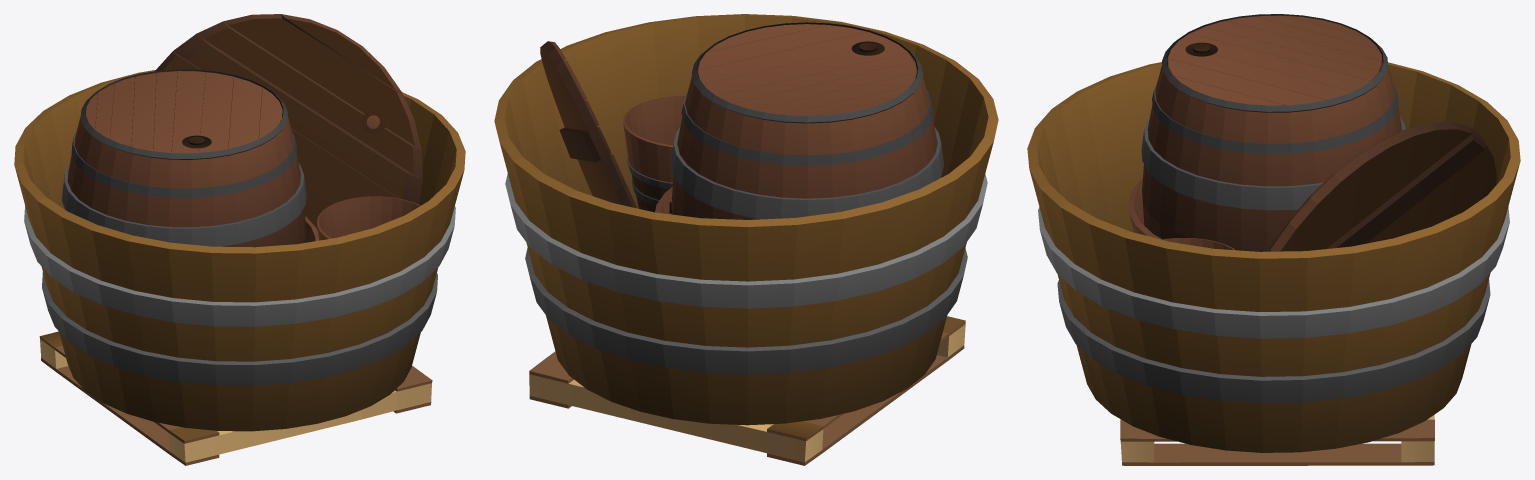
Rendered from Small Pallet of Barrels.fbx.
The picture shows the model from 3 angles, left to right: view 1: azimuth 30°, elevation 25°; view 2: azimuth 150°, elevation 25°; view 3: azimuth 270°, elevation 25°; orthographic projection. The views are drawn at different scales.
Parts seen in each view (by area): view 1: Barrel & Bucket Pallet; view 2: Barrel & Bucket Pallet; view 3: Barrel & Bucket Pallet.
Part boxes in pixels (x1,y1,x2,y2): Barrel & Bucket Pallet: (14, 14, 465, 465); Barrel & Bucket Pallet: (494, 14, 998, 465); Barrel & Bucket Pallet: (1027, 14, 1520, 465).
Bounding box in the file's own units: 327 × 447 × 447.
1 material, 1 textured.
